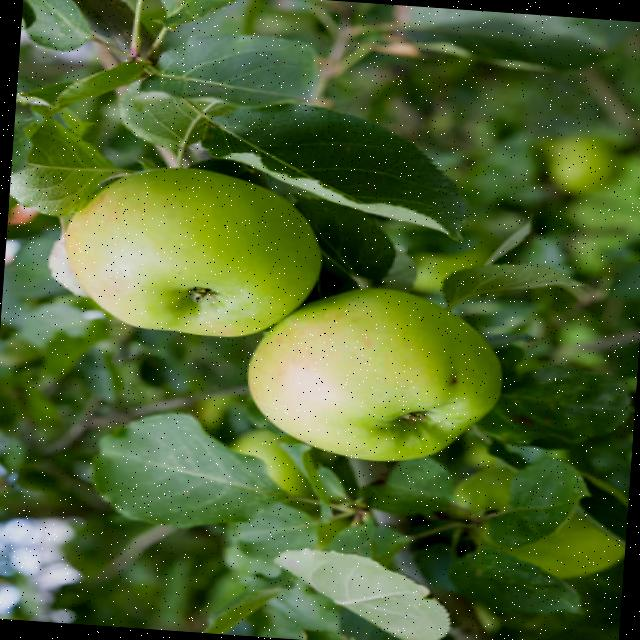Unripe: (239, 280, 506, 470), (52, 160, 325, 344)
